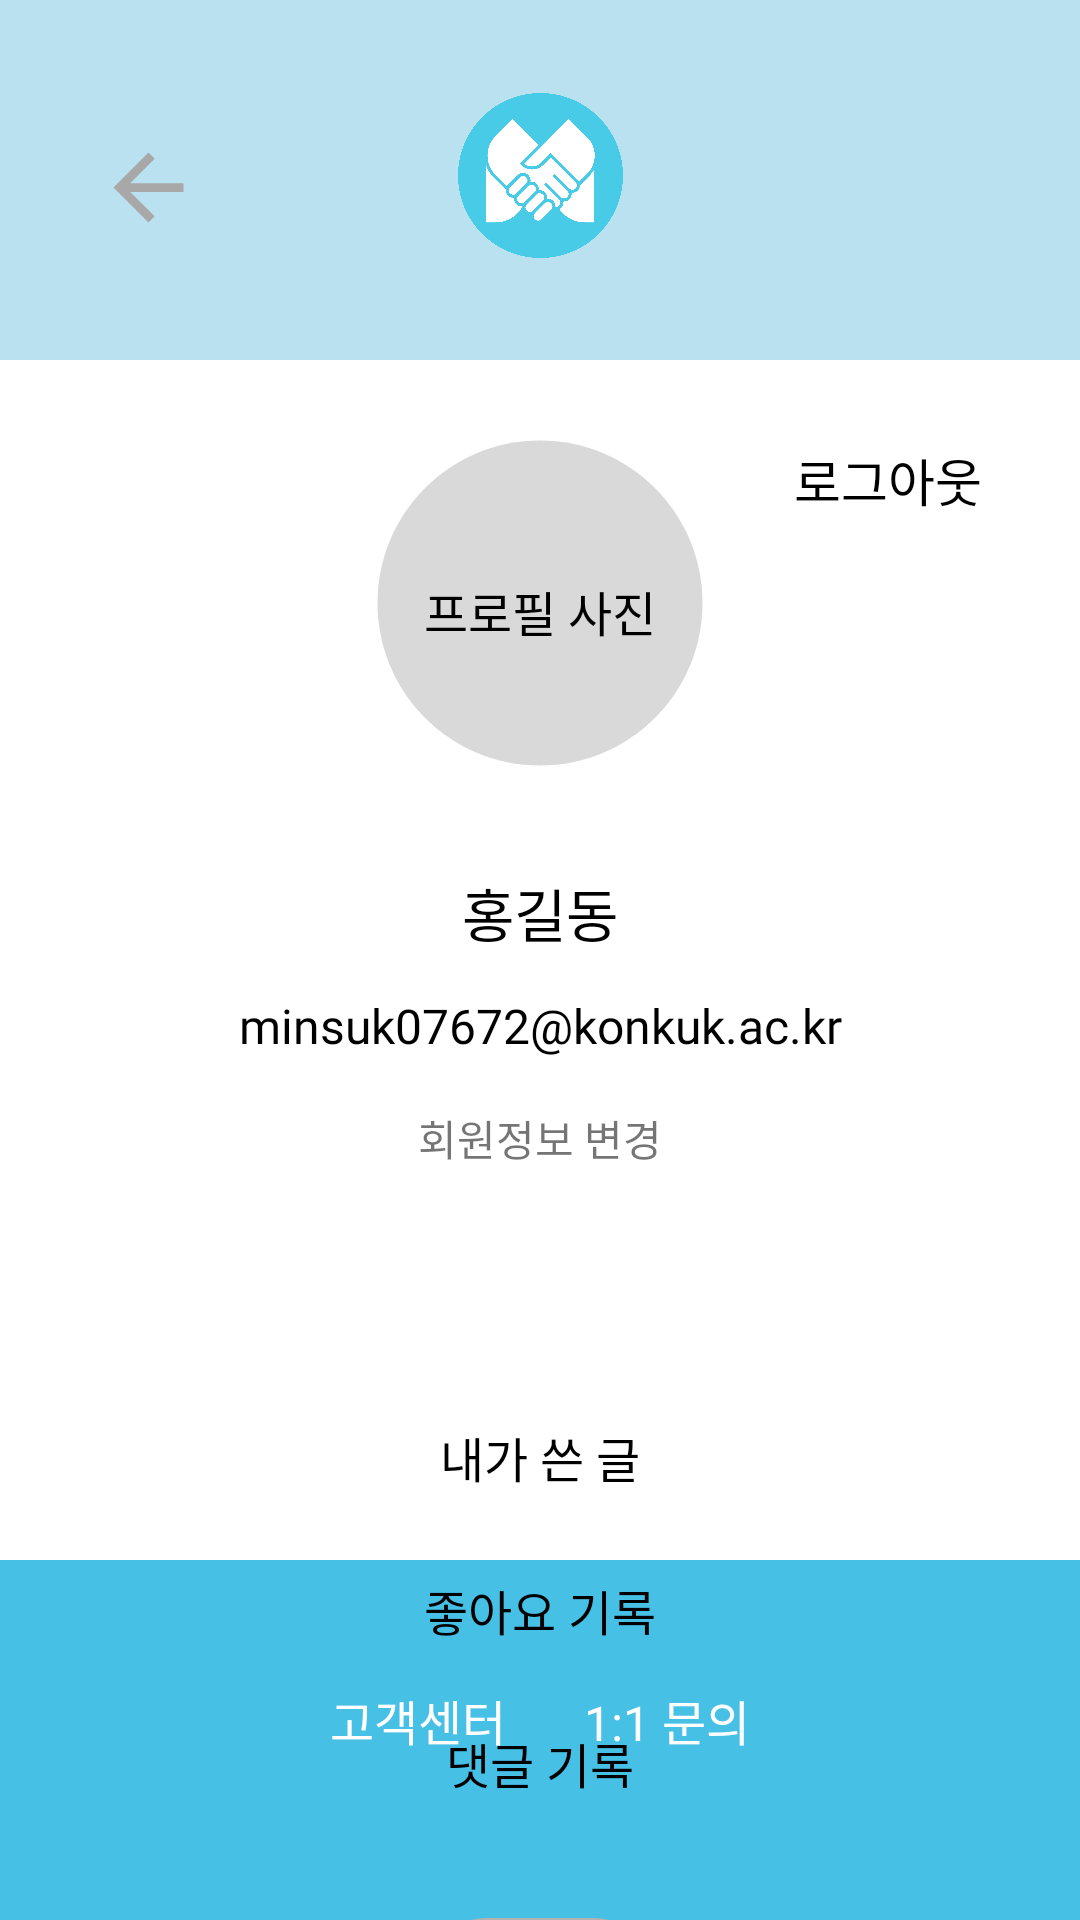

Screen size 1080px×1920px. Icon name, then its box in pixels as BBox(x1, y1, x2, y2):
arrow back: BBox(114, 153, 184, 222)
